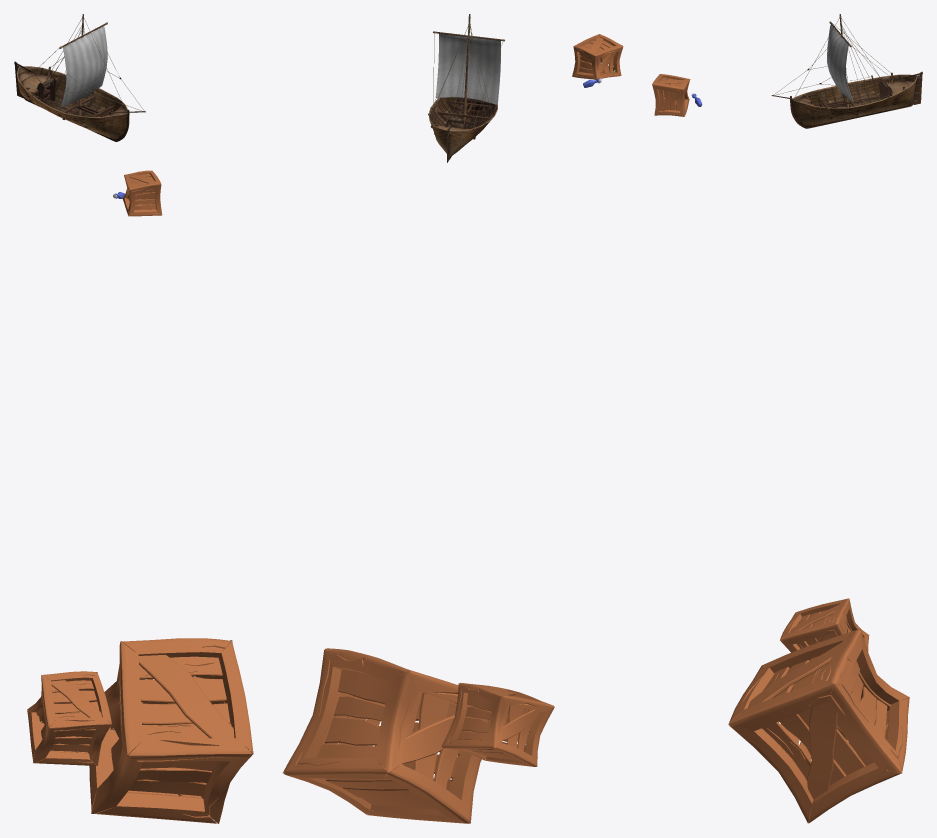
Rendered from ASSETS.fbx.
The picture shows the model from 3 angles, left to right: view 1: azimuth 30°, elevation 25°; view 2: azimuth 150°, elevation 25°; view 3: azimuth 270°, elevation 25°; orthographic projection. The views are drawn at different scales.
Parts seen in each view (by area): view 1: Caixote_2.003, Caixote_2.002, Cube.068, Plane.016, Caixote_2.001; view 2: Caixote_2.003, Caixote_2.002, Plane.016, Caixote_2.001, Cube.068; view 3: Caixote_2.003, Cube.068, Caixote_2.002, Caixote_2.001, Plane.016.
Part boxes in pixels (<box>): Caixote_2.003: <box>89,638,253,823</box>; Caixote_2.002: <box>27,671,111,765</box>; Cube.068: <box>16,66,127,139</box>; Plane.016: <box>61,26,107,106</box>; Caixote_2.001: <box>123,170,162,216</box>; Caixote_2.003: <box>283,648,508,823</box>; Caixote_2.002: <box>441,682,554,766</box>; Plane.016: <box>435,33,500,104</box>; Caixote_2.001: <box>572,34,623,79</box>; Cube.068: <box>429,97,497,157</box>; Caixote_2.003: <box>728,629,909,823</box>; Cube.068: <box>792,74,917,126</box>; Caixote_2.002: <box>780,598,869,652</box>; Caixote_2.001: <box>652,74,690,116</box>; Plane.016: <box>827,24,853,101</box>.
Size of the model in its own units: 6693 by 25294 by 8204.
